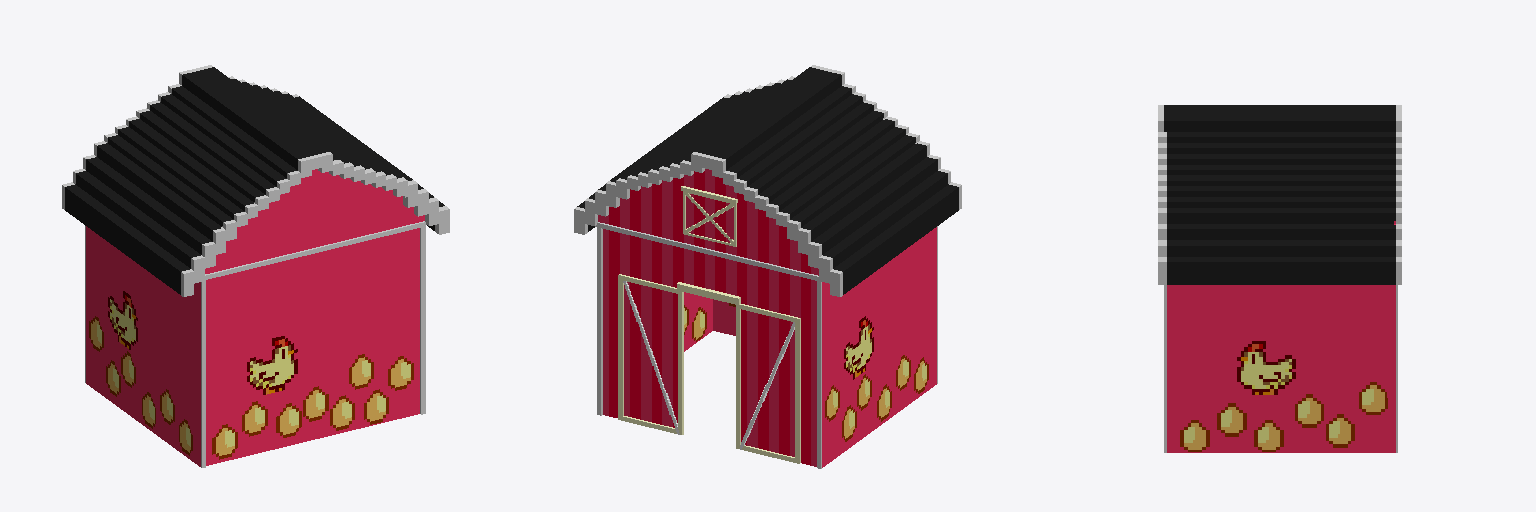
The picture shows the model from 3 angles: view 1: azimuth 30°, elevation 25°; view 2: azimuth 150°, elevation 25°; view 3: azimuth 270°, elevation 25°; orthographic projection.
Parts seen in each view (by area): view 1: Model; view 2: Model; view 3: Model.
Part boxes in pixels (x1,y1,x2,y2): Model: (62, 65, 449, 467); Model: (574, 65, 961, 468); Model: (1158, 105, 1401, 452).
Bounding box in the file's own units: 31.25 × 32 × 24.75.
Materials: 1 (1 with a texture image).